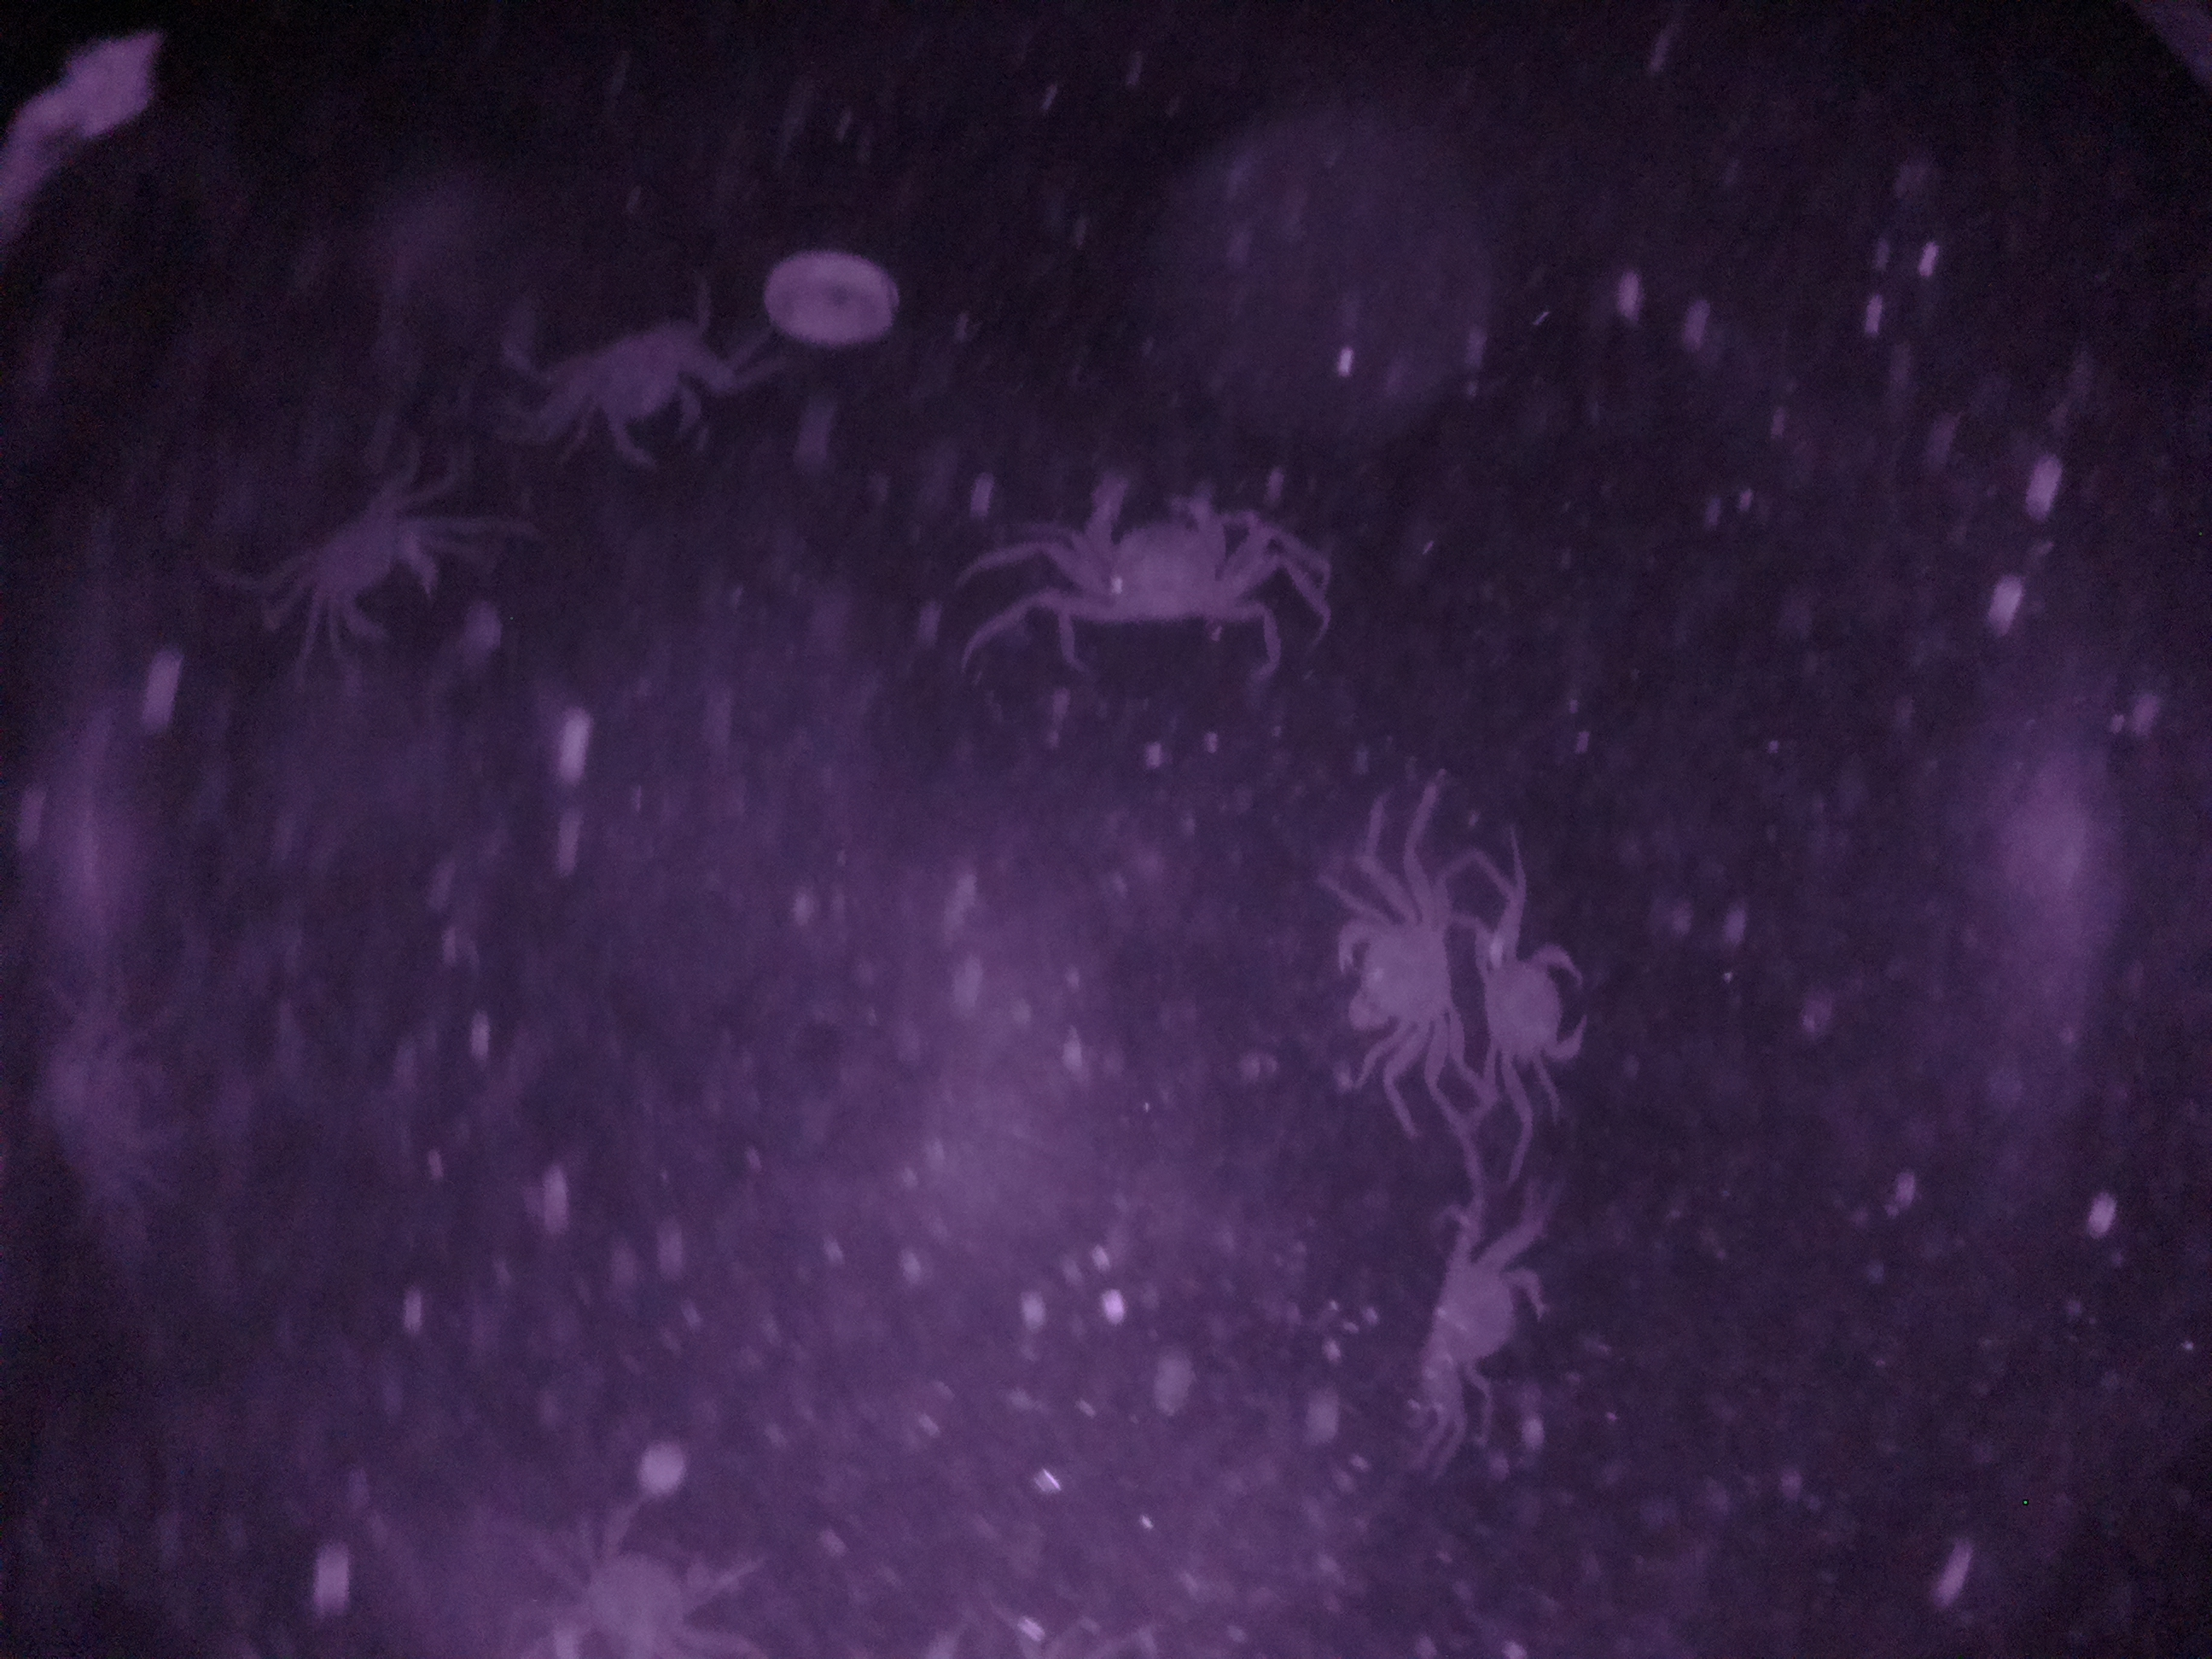Crab: (1042, 472, 1299, 655), (1472, 873, 1623, 1101), (1308, 875, 1453, 1084)
